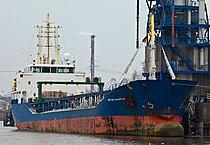Ship: (9, 46, 202, 143)
